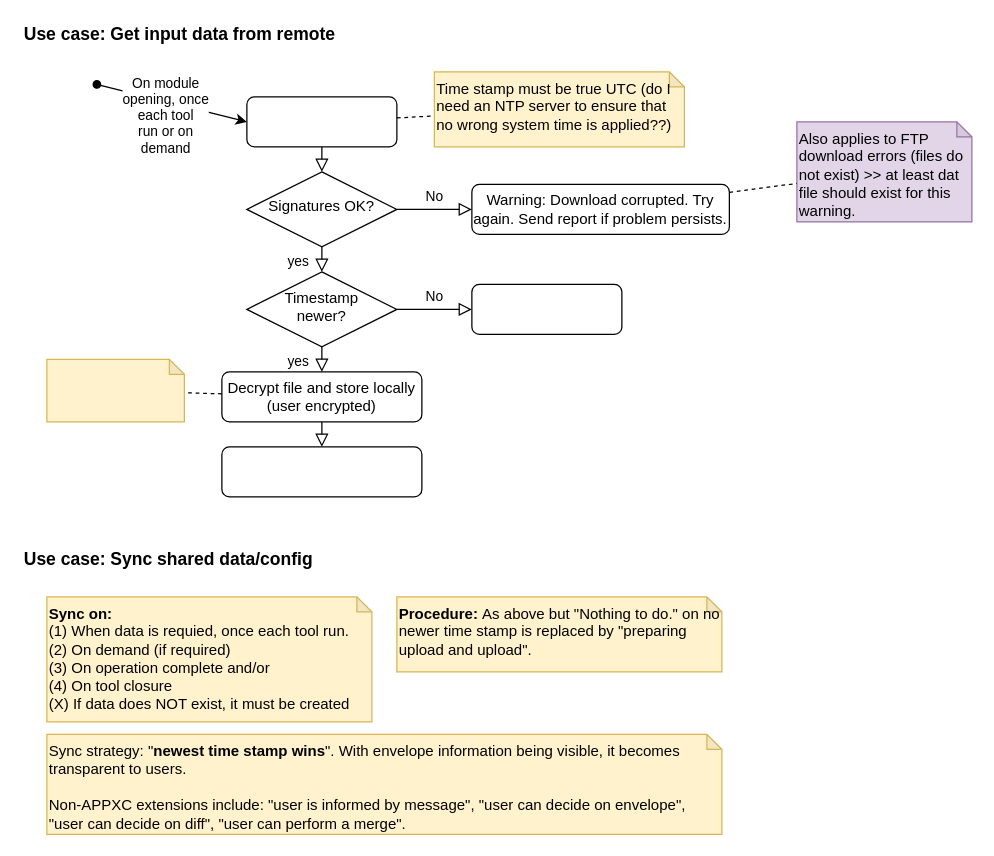
Some shapes in this 994 by 856 pixel diagram are drawn without their labels. Each missing label, with the centre of its shape:
"Get <file>.dat and <file>.done" goes at point (321, 121).
"GUI: Display input data timestamp and source." goes at point (321, 471).
"Local copy must retain meta data (time stamp)" goes at point (115, 390).
"Nothing to do." goes at point (546, 308).
